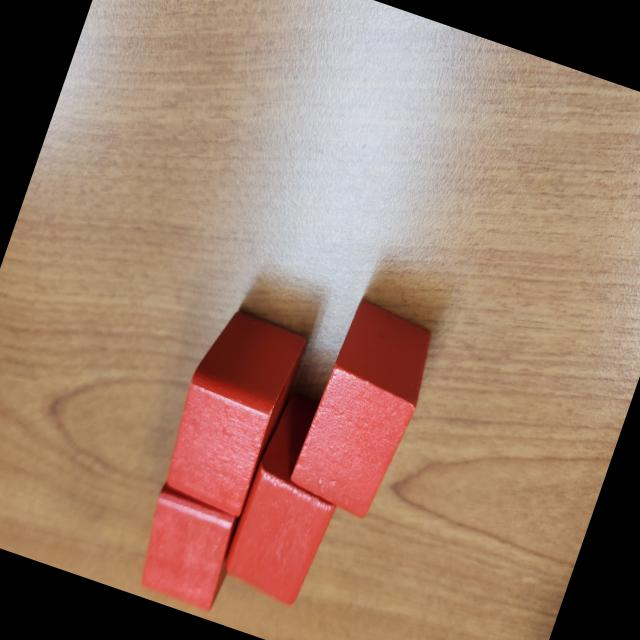red: (286, 295, 444, 524), (151, 302, 311, 524), (214, 389, 366, 616), (126, 477, 250, 617)
